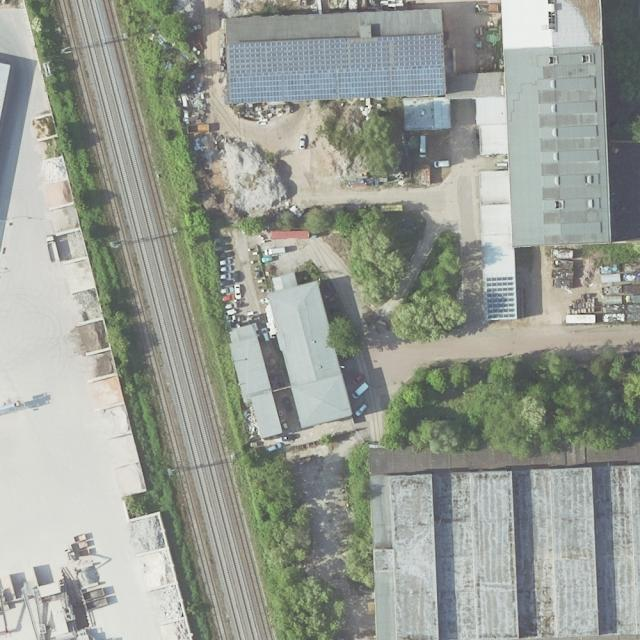PV: (228, 34, 444, 103), (485, 277, 515, 319)
